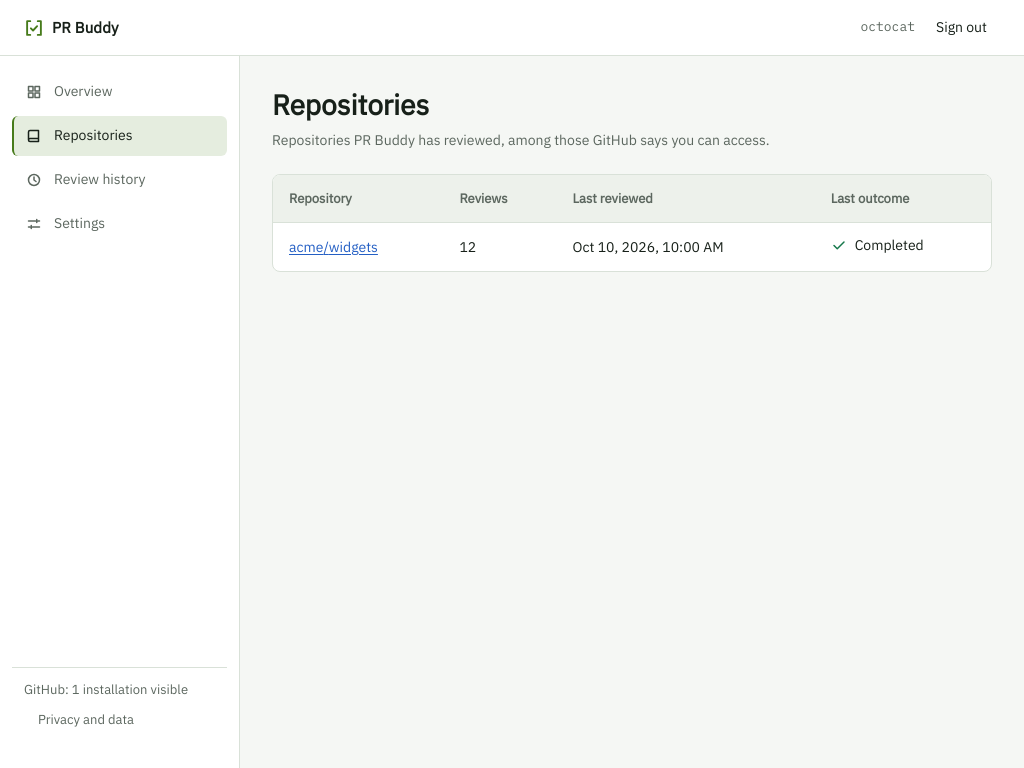
Scenario: repositories › opens a repository from the list
The width and height of the screenshot is (1024, 768).
Click the link "acme/widgets" at (306, 247), box [289,238,378,256]
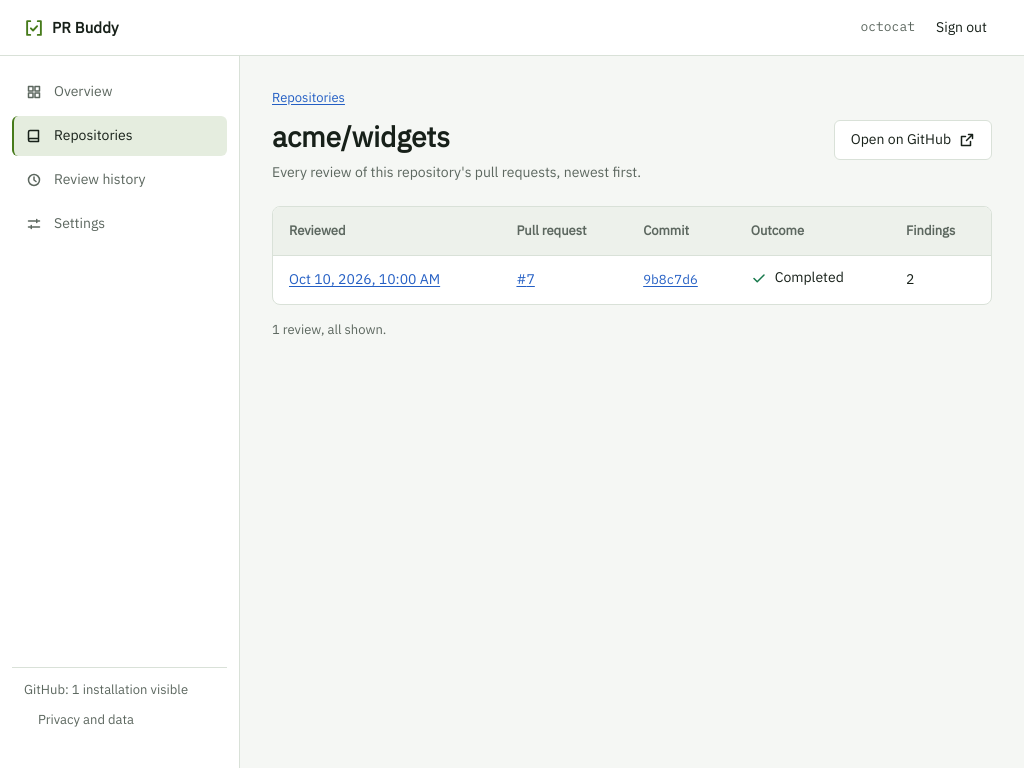
Result: the heading "acme/widgets" is shown at [272,118,450,155]
